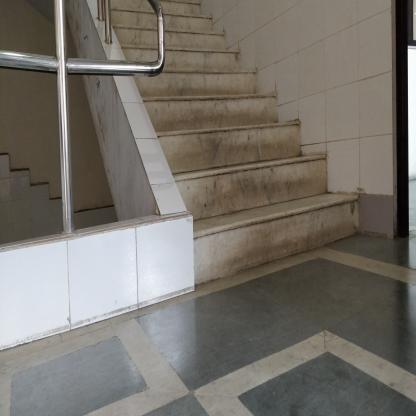stairs: (197, 112, 318, 295)
